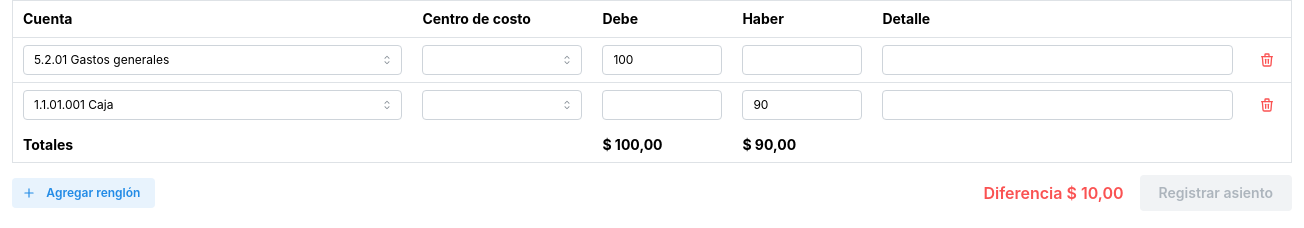
Test: GrillaAsiento › muestra la diferencia y habilita el registro cuando balancea
The image size is (1304, 228).
Expected: the text with test id "diferencia-asiento" reads "Diferencia $ 10,00", x1=984 y1=181 x2=1124 y2=206
Expected: the button "Registrar asiento" is disabled, x1=1140 y1=175 x2=1292 y2=211
Replace the text in the 2nd field named "Haber" with "100" at (802, 105), box x1=742 y1=90 x2=862 y2=120
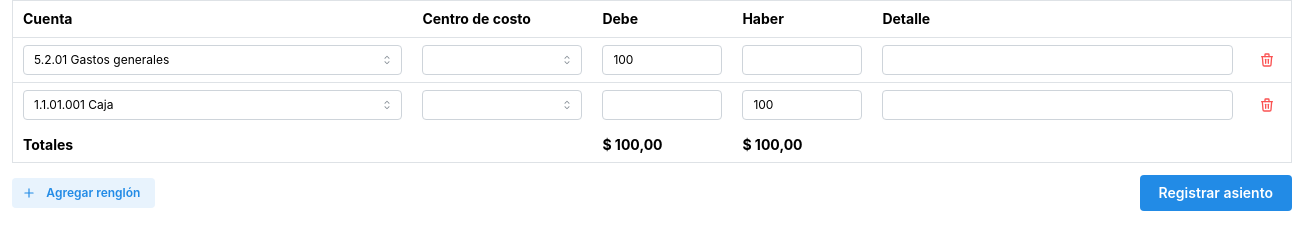
Expected: the text with test id "diferencia-asiento" is gone
Expected: the button "Registrar asiento" is enabled, x1=1140 y1=175 x2=1292 y2=211
